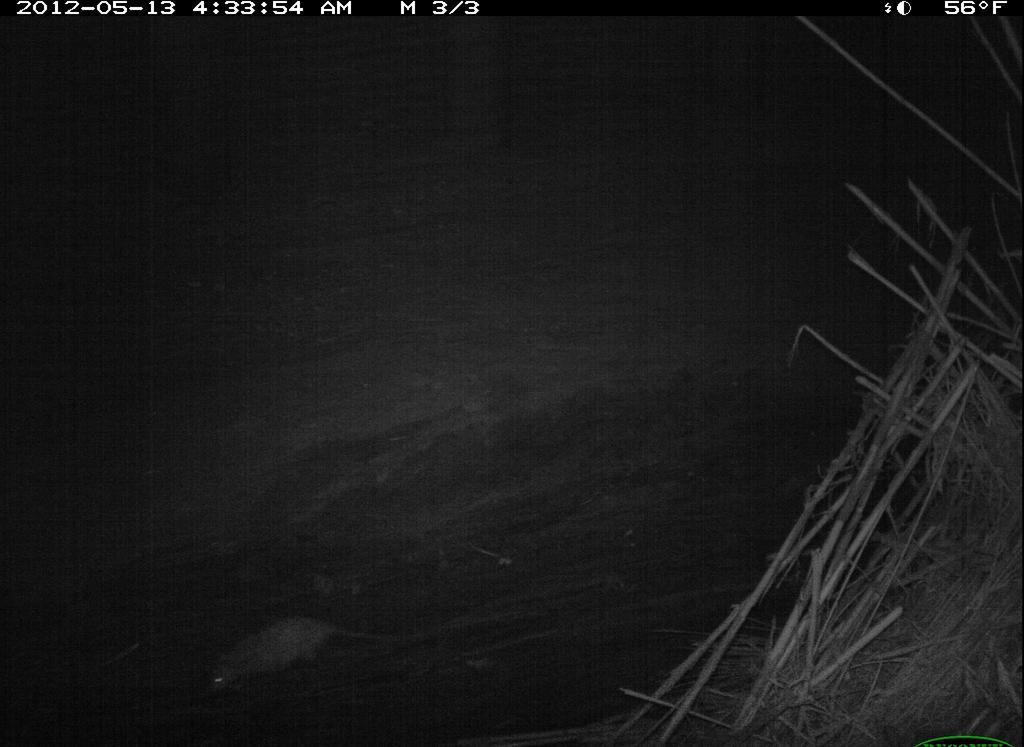opossum: (173, 605, 415, 703)
